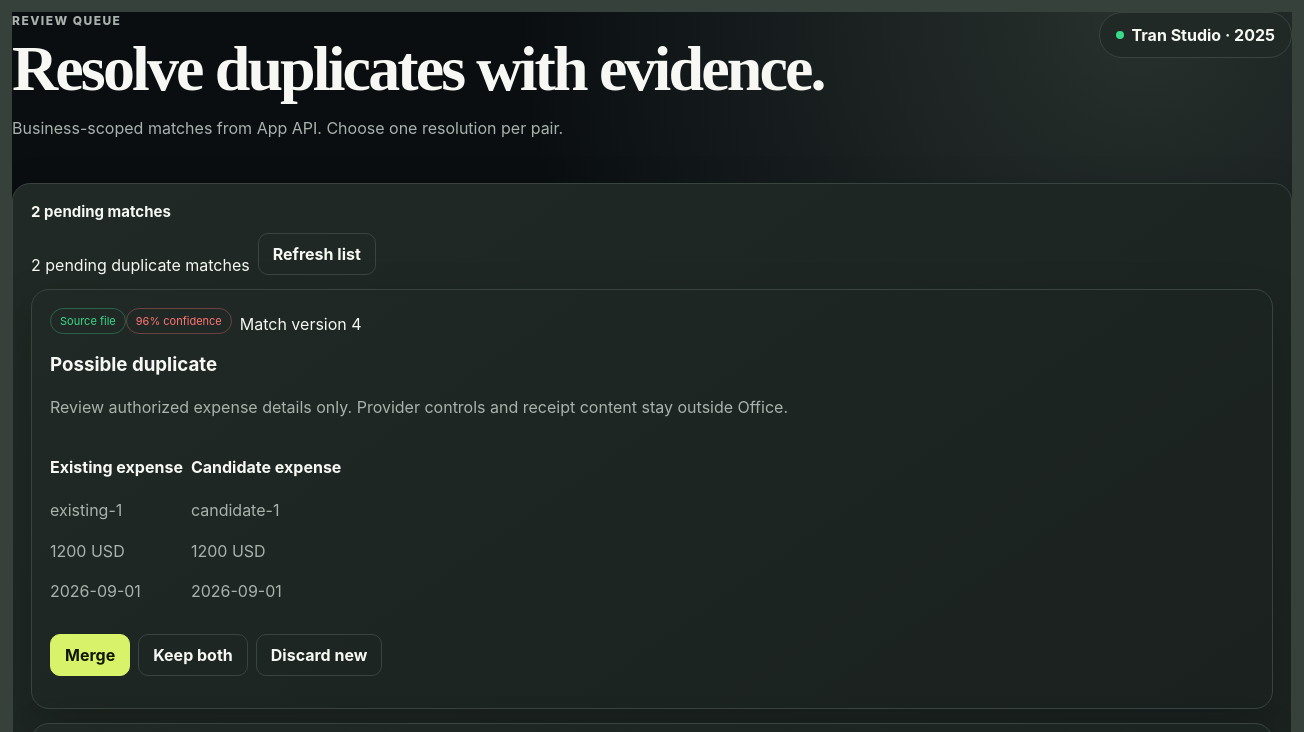
Scenario: rendered Office duplicate review › announces successful resolution while another pending item remains
Step 1. Click the button "Merge" → (90, 655), box [50,634,130,676]
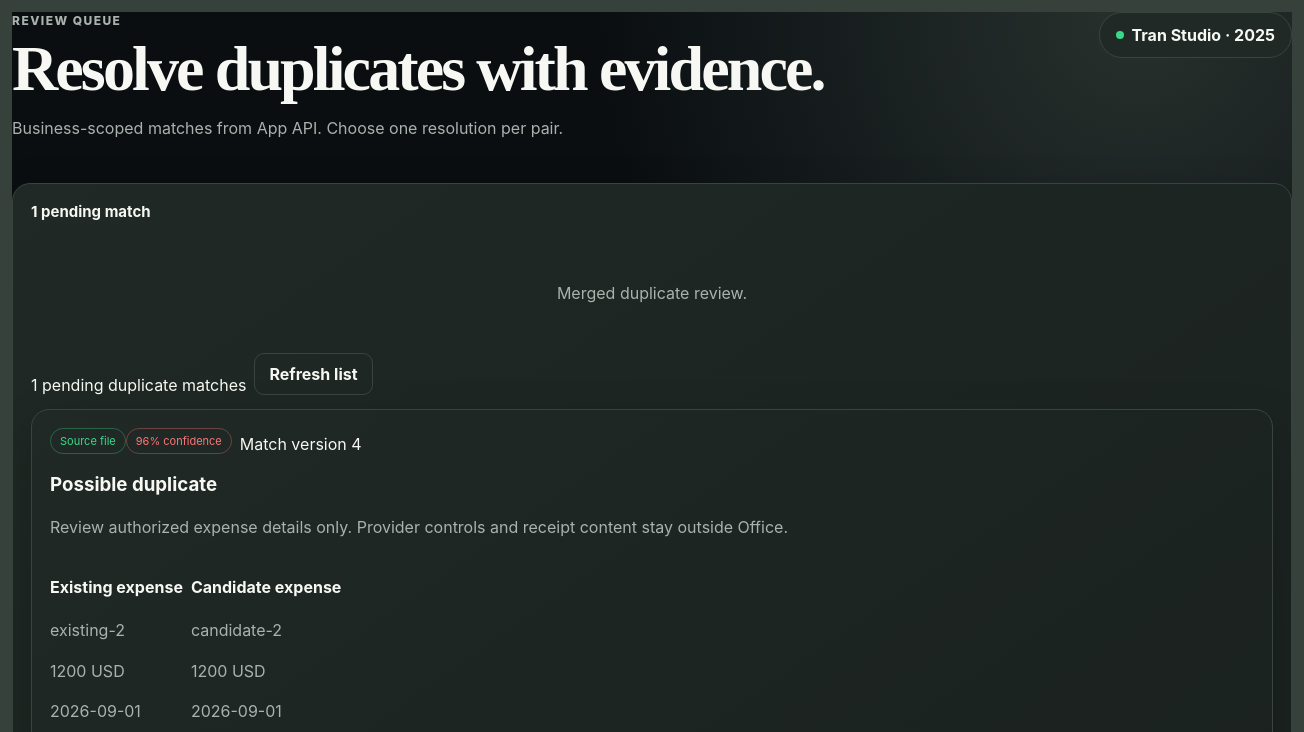
Expected: the text "candidate-2" is shown, [191,620,282,640]
Expected: the text "Merged duplicate review." is shown, [557,283,747,303]
Expected: the number of headings "Possible duplicate" is 1, [50,473,217,496]
